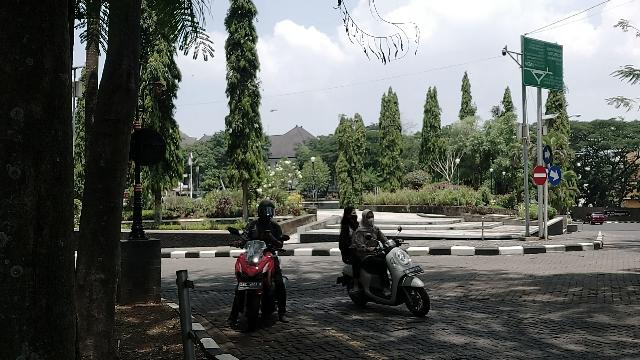helm: (259, 202, 276, 223)
motor: (337, 241, 431, 317), (236, 247, 287, 330)
non-helm: (346, 208, 359, 222), (364, 210, 375, 226)
